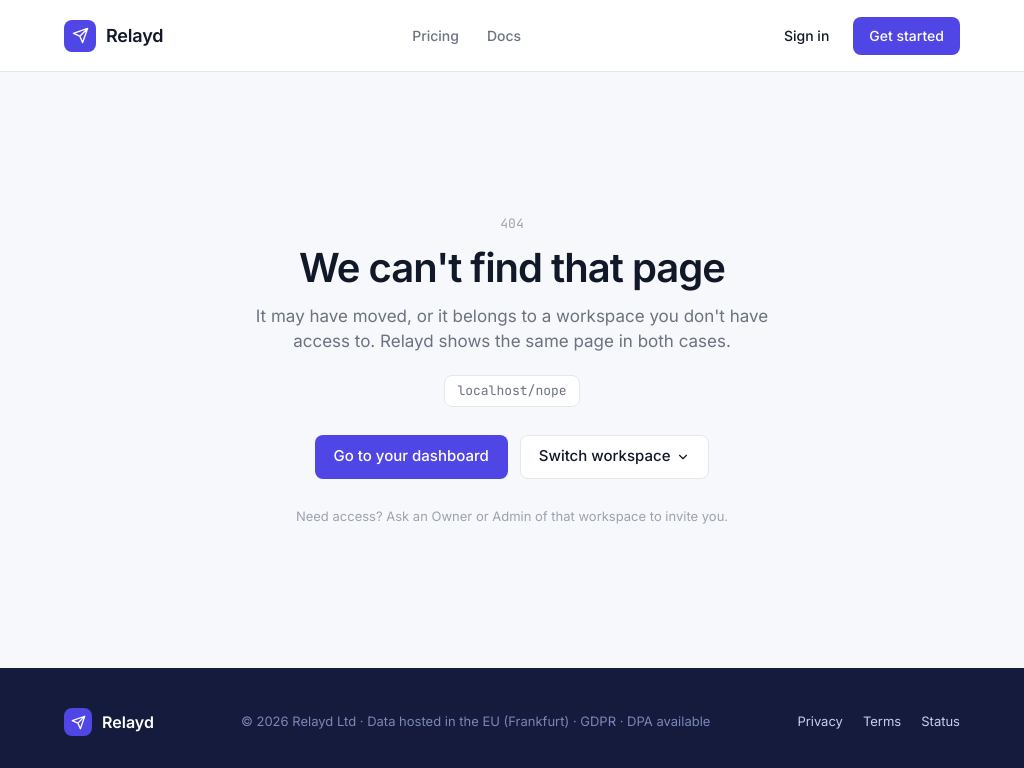
A4 — not found › offers the dashboard and a workspace switch
Click the button "Switch workspace": (615, 456) [520,434,710,478]
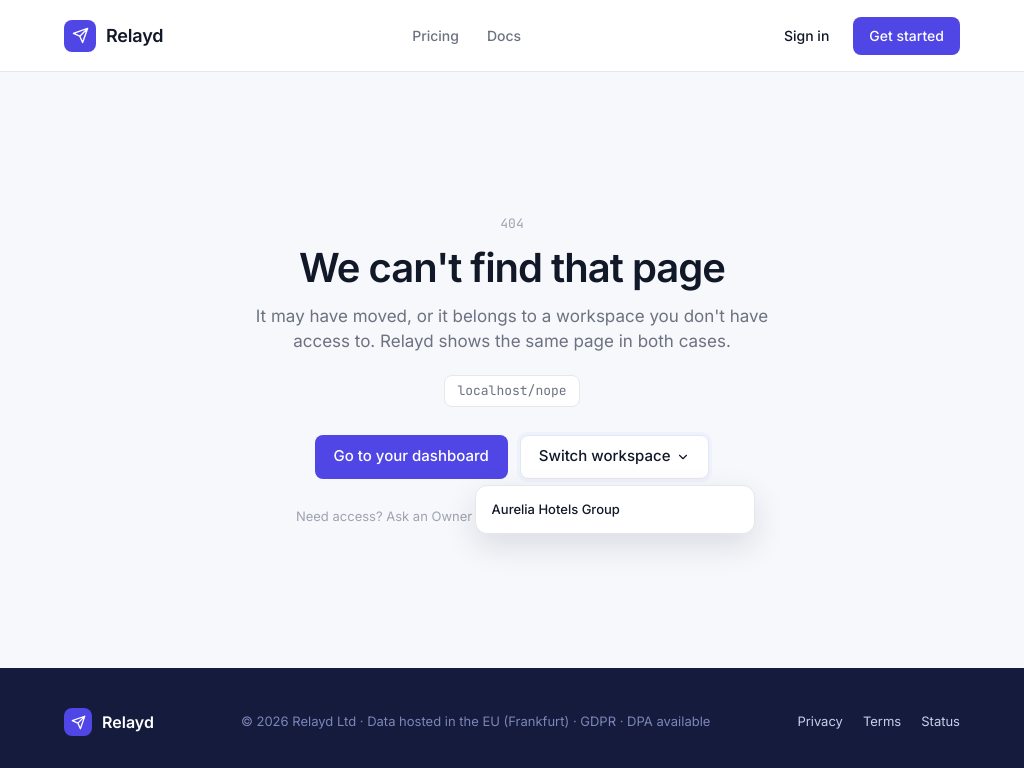
Expected: the option "Aurelia Hotels Group" is shown, [482,492,748,527]
